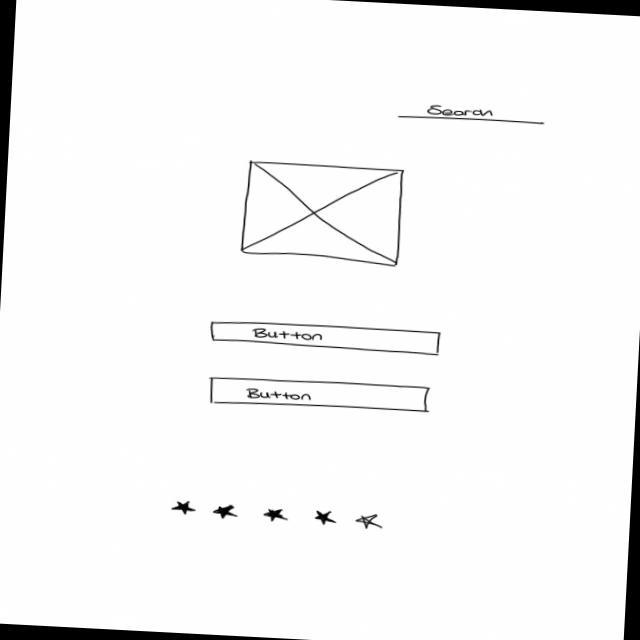button: (208, 374, 433, 418), (209, 320, 444, 359)
image: (239, 159, 406, 269)
input: (397, 101, 548, 128)
